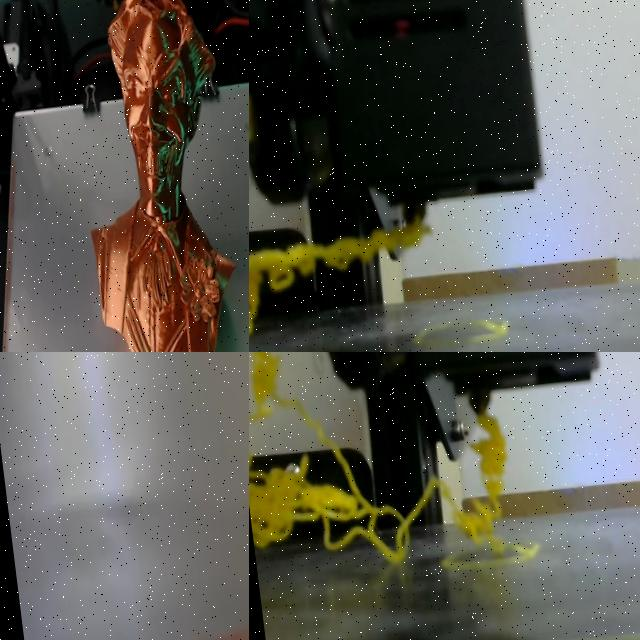spaghetti: (249, 352, 538, 567), (249, 221, 428, 334)
